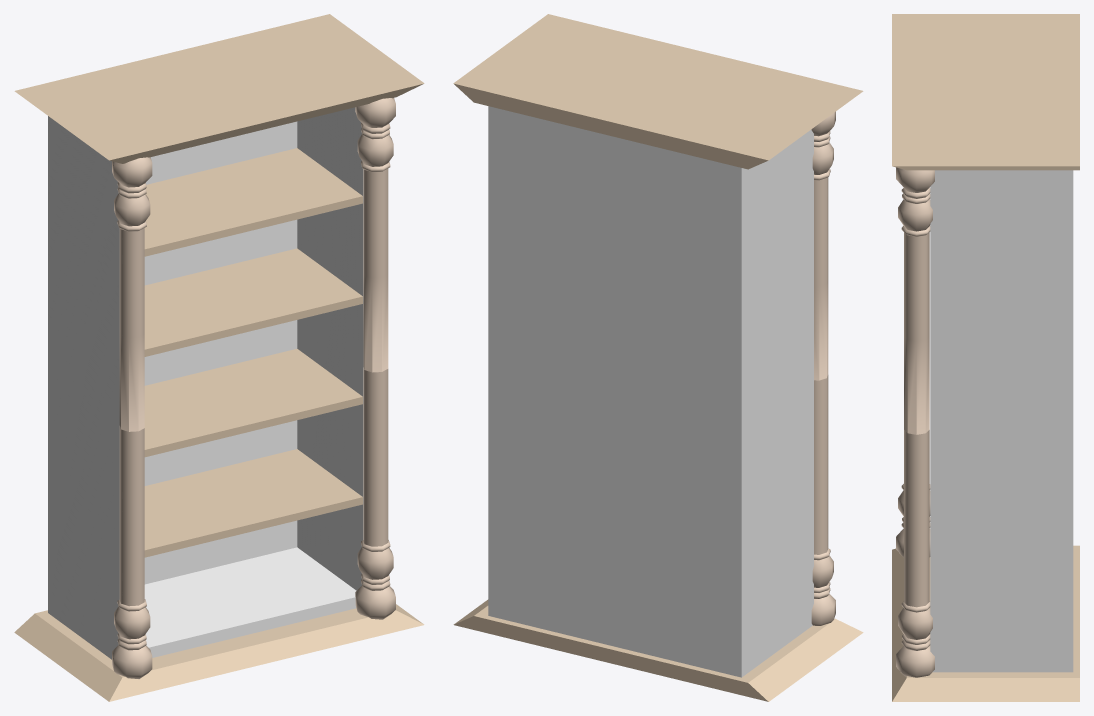
The model's file is Bookcase_A.fbx.
3 renders of one model, left to right at view 1: azimuth 30°, elevation 25°; view 2: azimuth 150°, elevation 25°; view 3: azimuth 270°, elevation 25°, orthographic.
Visible parts, largest first — view 1: polySurface7.001, polySurface1.001, polySurface2.001, polySurface2.003; view 2: polySurface1.001, polySurface7.001, polySurface2.001; view 3: polySurface1.001, polySurface7.001, polySurface2.003, polySurface2.001.
Boxes of the visible parts, x1,y1,x2,y2 form: polySurface7.001: (14, 14, 424, 701); polySurface1.001: (48, 107, 363, 659); polySurface2.001: (112, 157, 152, 678); polySurface2.003: (355, 98, 395, 619); polySurface1.001: (488, 106, 813, 677); polySurface7.001: (453, 14, 863, 701); polySurface2.001: (811, 111, 835, 625); polySurface1.001: (930, 170, 1073, 672); polySurface7.001: (892, 14, 1079, 701); polySurface2.003: (896, 167, 934, 677); polySurface2.001: (896, 484, 930, 557).
Size of the model in its own units: 122 by 200 by 63.48.
